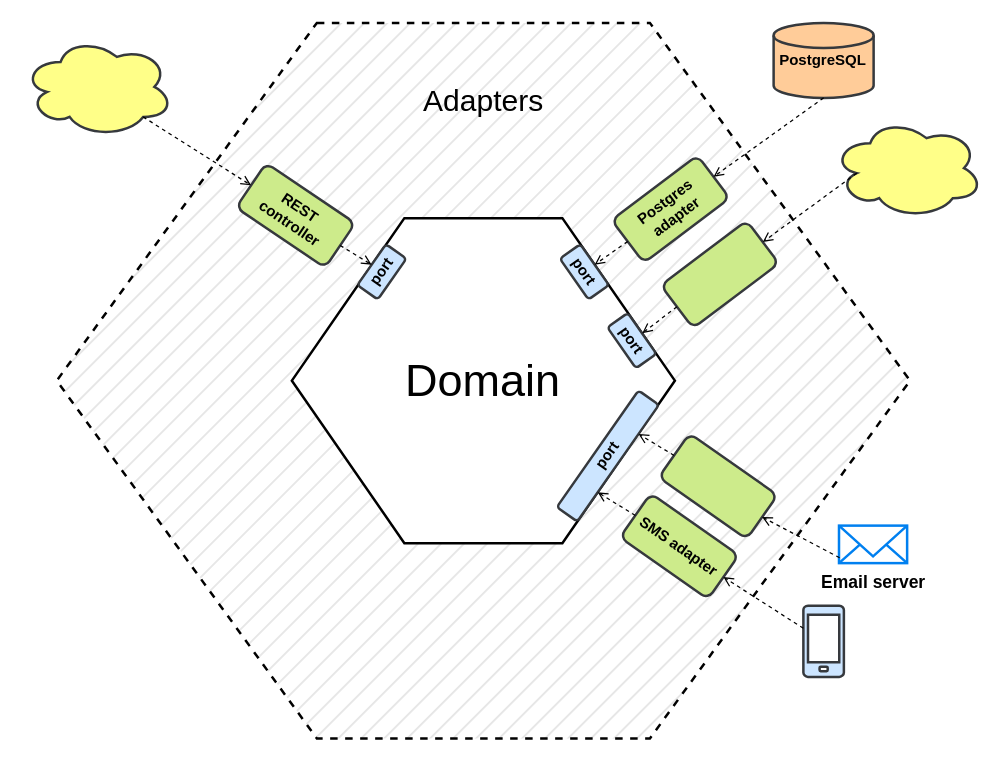
The diagram is 1005 pixels wide and 761 high, and some of its shapes have lost their labels. The box of each missing label's shape, as (x1, y1, x2, y2) in pixels:
Auth Application: (831, 116, 983, 219)
Authentication Adapter: (658, 218, 780, 329)
Email adapter: (656, 431, 779, 540)
External APP: (21, 35, 174, 138)
SMS gateway: (802, 604, 844, 678)
